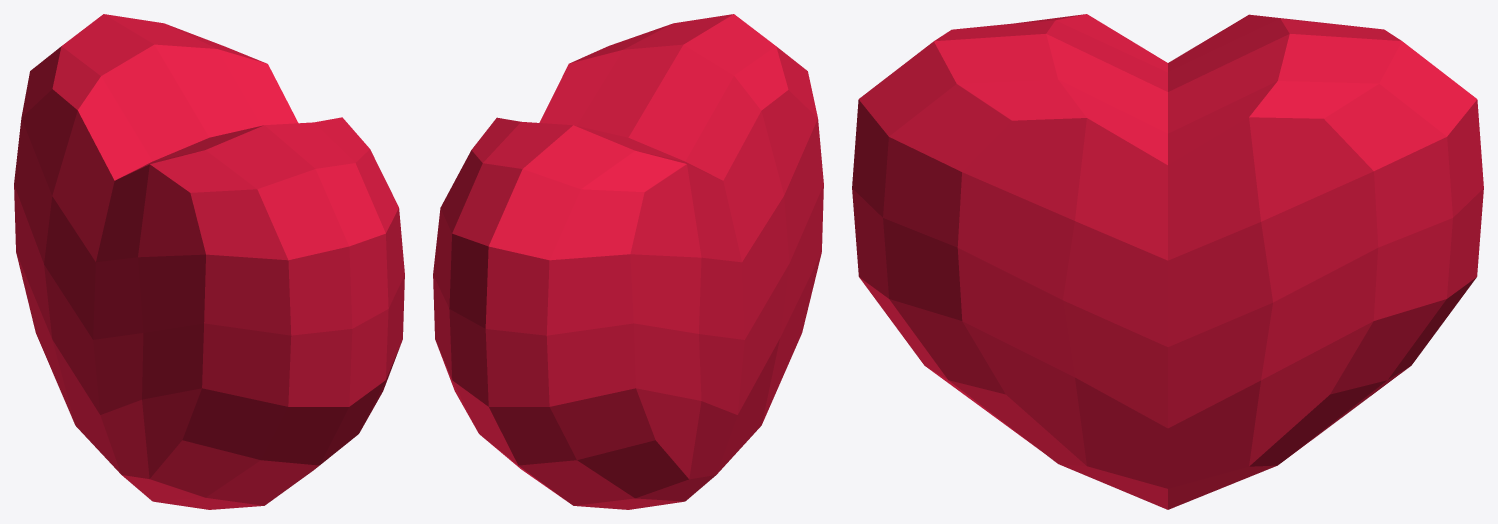
The model's file is Corazon.fbx.
The picture shows the model from 3 angles, left to right: view 1: azimuth 30°, elevation 25°; view 2: azimuth 150°, elevation 25°; view 3: azimuth 270°, elevation 25°; orthographic projection. The views are drawn at different scales.
Visible parts, largest first — view 1: Cube; view 2: Cube; view 3: Cube.
Part boxes in pixels (x1,y1,x2,y2): Cube: (14,14,404,509); Cube: (433,14,823,509); Cube: (852,14,1483,509).
Size of the model in its own units: 186 by 320 by 390.
